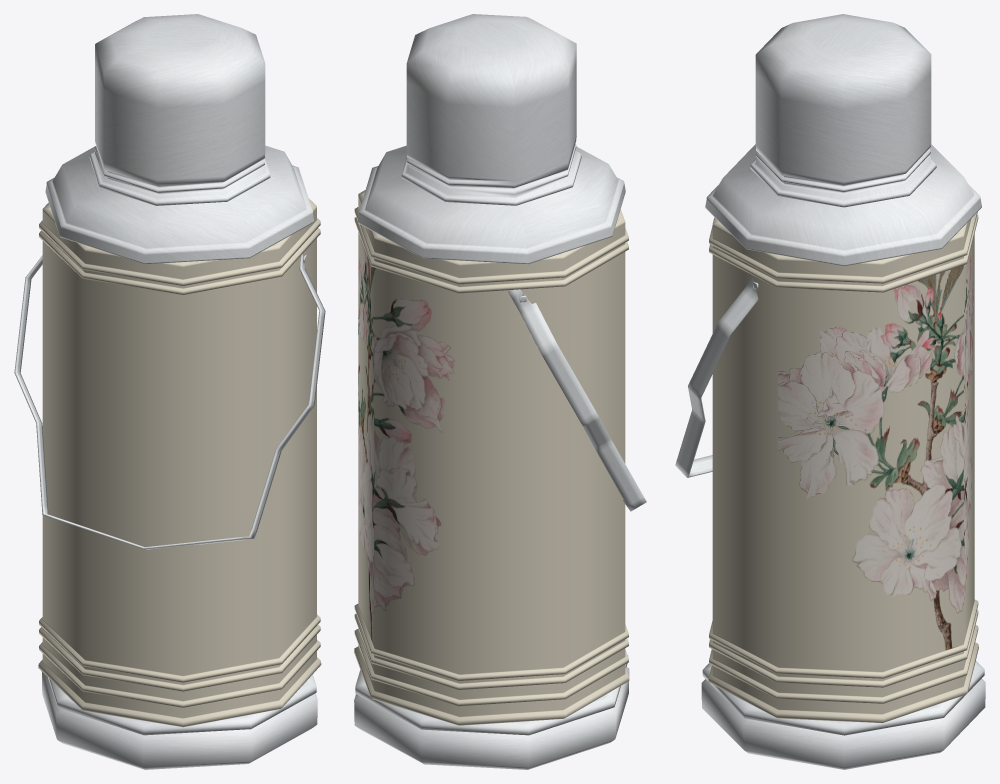
Rendered from desenli-termos.glb.
3 views of the same model, side by side, from view 1: azimuth 30°, elevation 25°; view 2: azimuth 150°, elevation 25°; view 3: azimuth 270°, elevation 25° (orthographic).
Parts seen in each view (by area): view 1: bottom; view 2: bottom; view 3: bottom.
Boxes of the visible parts, x1=… form: bottom: x1=14, y1=14, x2=325, y2=769; bottom: x1=354, y1=14, x2=646, y2=769; bottom: x1=675, y1=14, x2=985, y2=769.
Size of the model in its own units: 0.1436 by 0.3447 by 0.1437.
Materials: 3 (3 with a texture image).
